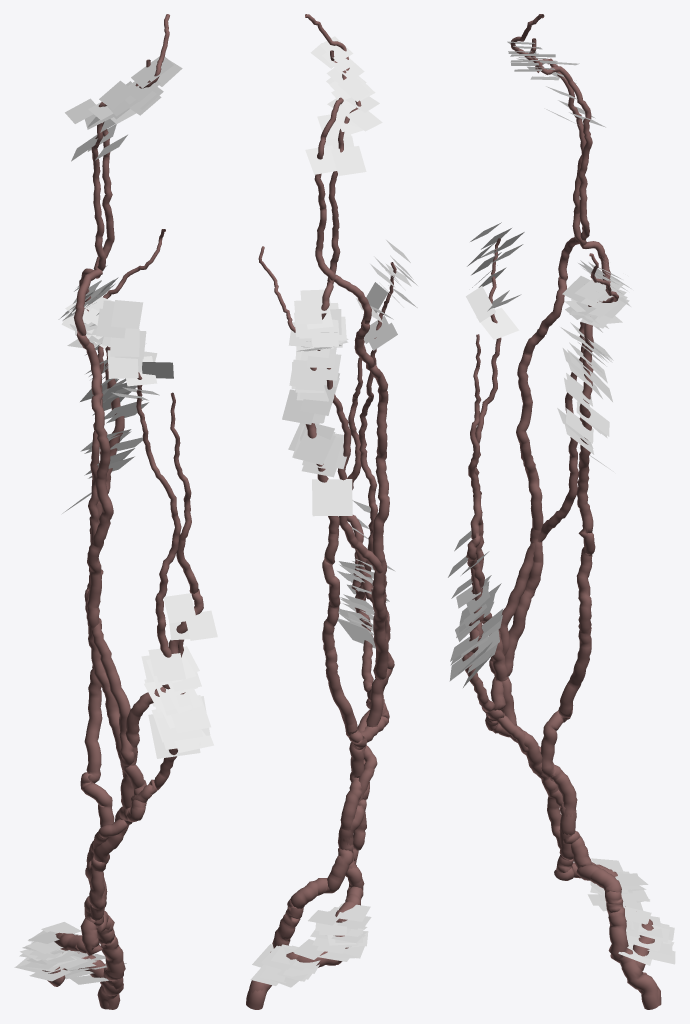
File: big ivy 1.fbx
3 renders of one model, left to right at view 1: azimuth 30°, elevation 25°; view 2: azimuth 150°, elevation 25°; view 3: azimuth 270°, elevation 25°, orthographic. The views are drawn at different scales.
Parts seen in each view (by area): view 1: IVY_Curve.020, IvyLeaf.022, IVY_Curve.019, IvyLeaf.023; view 2: IvyLeaf.022, IVY_Curve.020, IVY_Curve.019, IvyLeaf.023; view 3: IVY_Curve.020, IvyLeaf.022, IVY_Curve.019, IvyLeaf.023.
Part boxes in pixels (left/top/right/bottom): IVY_Curve.020: left=73, top=14, right=203, bottom=1009; IvyLeaf.022: left=14, top=265, right=213, bottom=984; IVY_Curve.019: left=42, top=59, right=185, bottom=1009; IvyLeaf.023: left=29, top=56, right=217, bottom=968; IvyLeaf.022: left=250, top=289, right=395, bottom=985; IVY_Curve.020: left=246, top=14, right=394, bottom=1005; IVY_Curve.019: left=246, top=50, right=396, bottom=1009; IvyLeaf.023: left=271, top=36, right=417, bottom=987; IVY_Curve.020: left=466, top=14, right=659, bottom=1009; IvyLeaf.022: left=449, top=260, right=675, bottom=965; IVY_Curve.019: left=462, top=38, right=661, bottom=1005; IvyLeaf.023: left=448, top=41, right=674, bottom=945.
Size of the model in its own units: 41.59 by 318 by 66.16.
